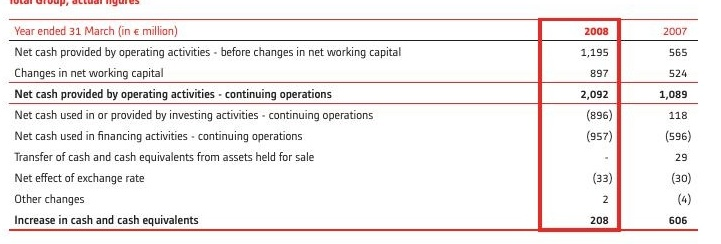table: (0, 0, 721, 244)
